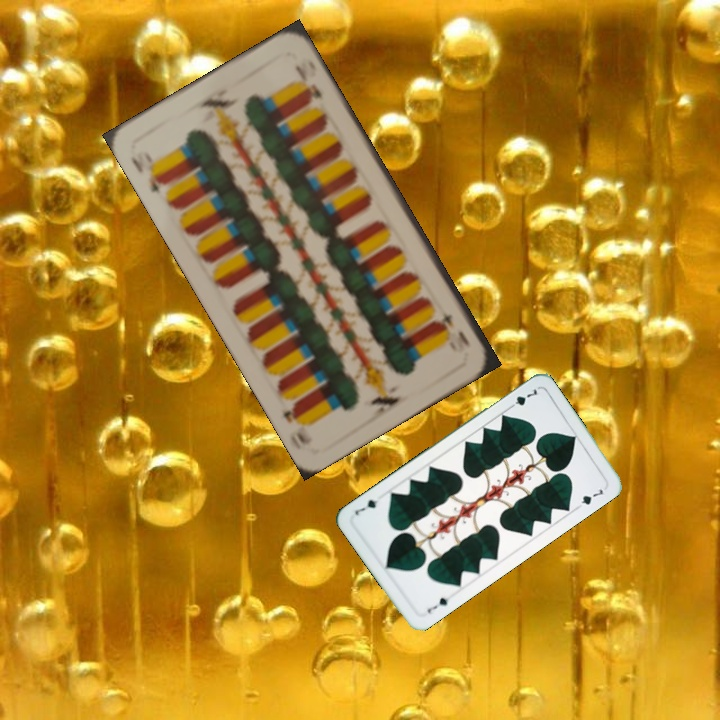E10: (126, 150, 170, 197), (433, 301, 474, 350)
G7: (504, 384, 540, 412), (423, 593, 451, 616)
